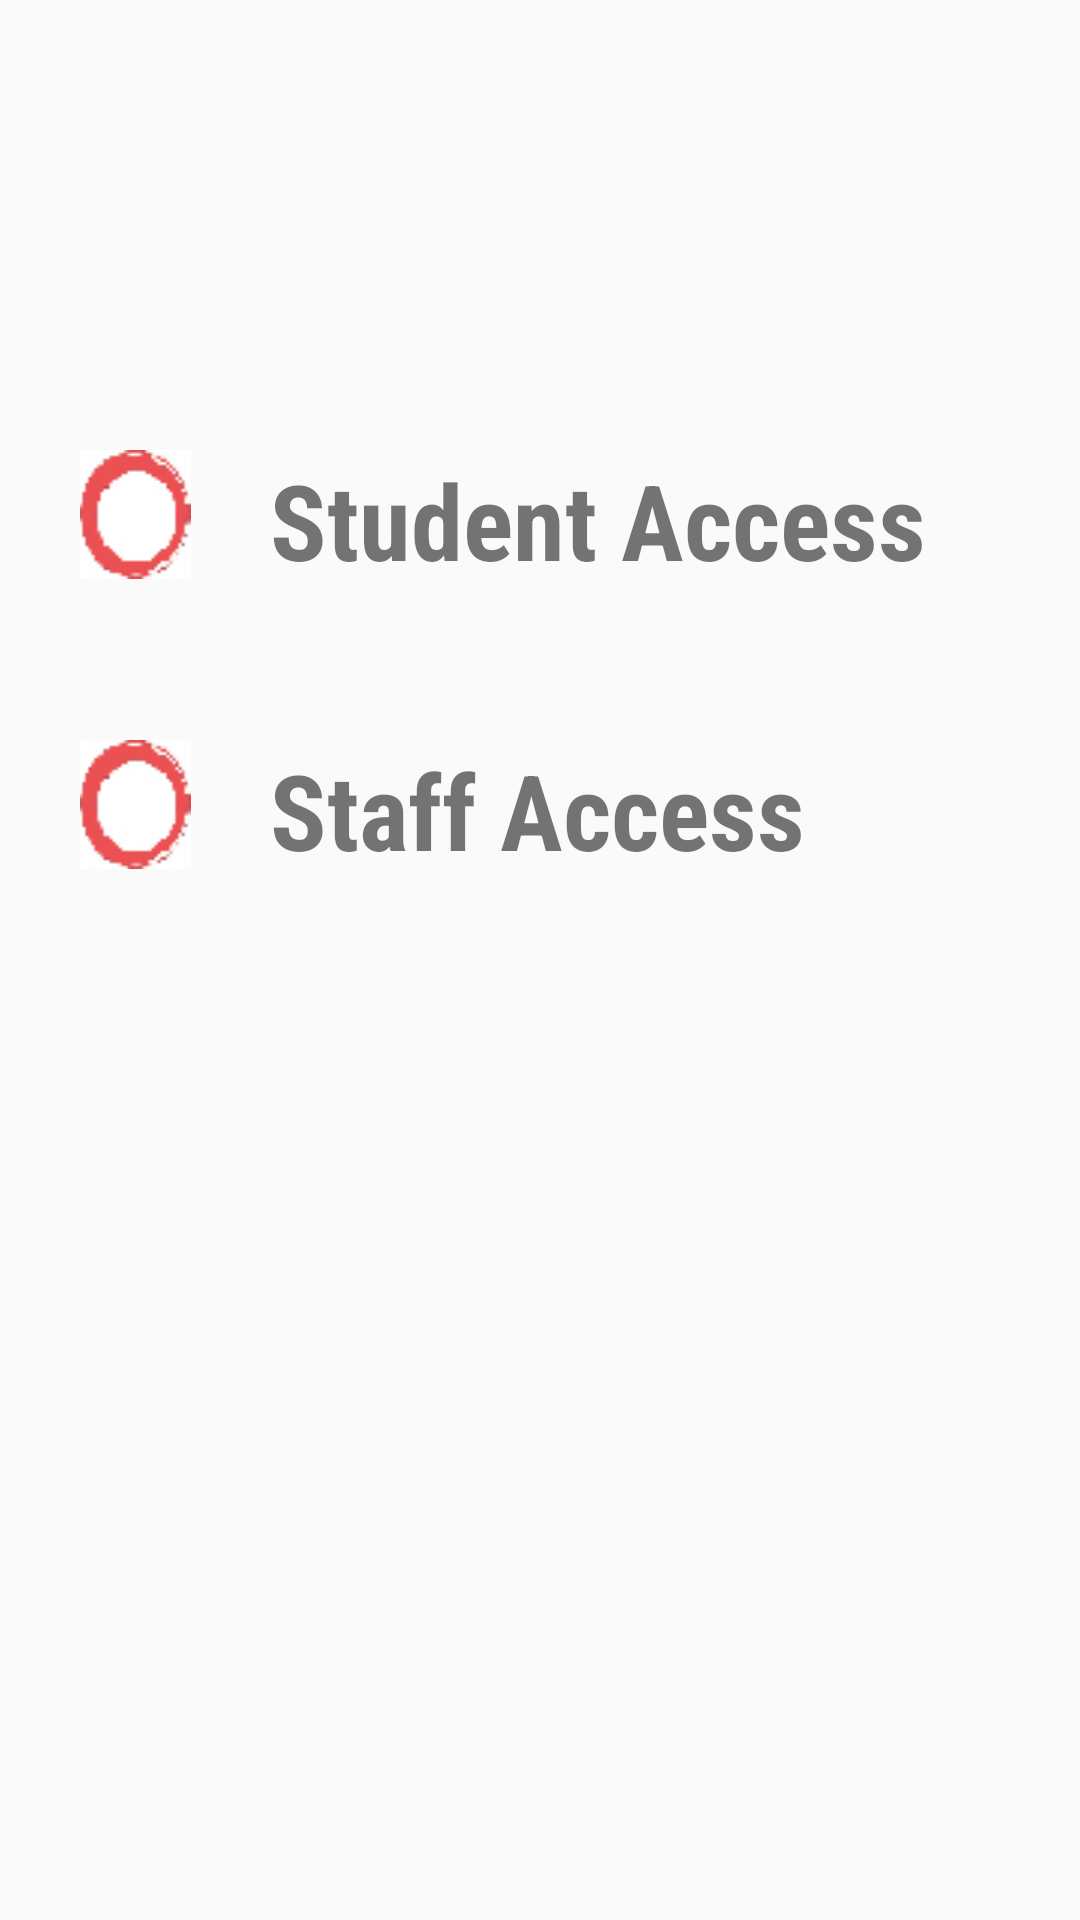

Named icons in this screenshot (1080*1920) and their bounding boxes, {"x1": x1, "y1": y1, "x2": x2, "y2": y2}:
circle: {"x1": 80, "y1": 450, "x2": 191, "y2": 579}, {"x1": 80, "y1": 740, "x2": 191, "y2": 869}
